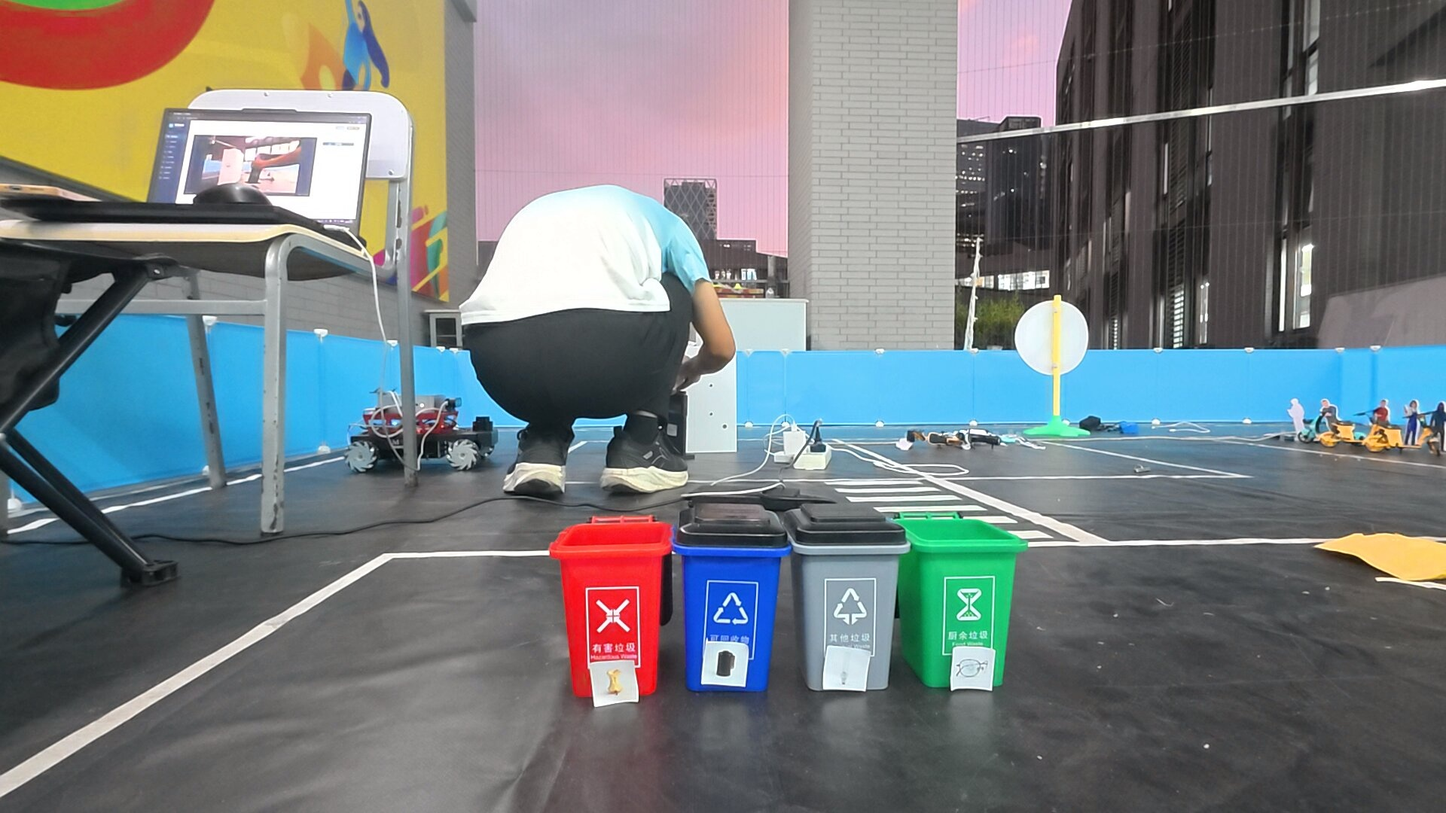food_trash: (593, 663, 635, 701), (954, 649, 992, 684)
hazardous_trash: (706, 643, 744, 684), (827, 651, 866, 688)
other_trash: (825, 649, 865, 689)
